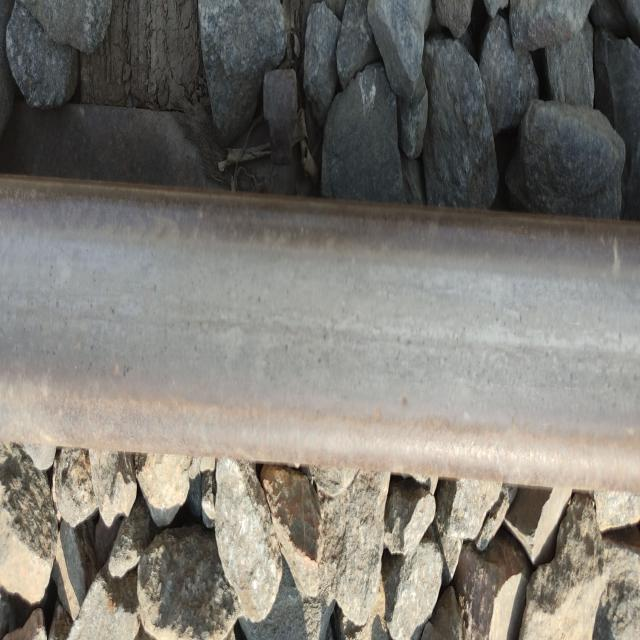Good Fasteners: (264, 69, 306, 164)
